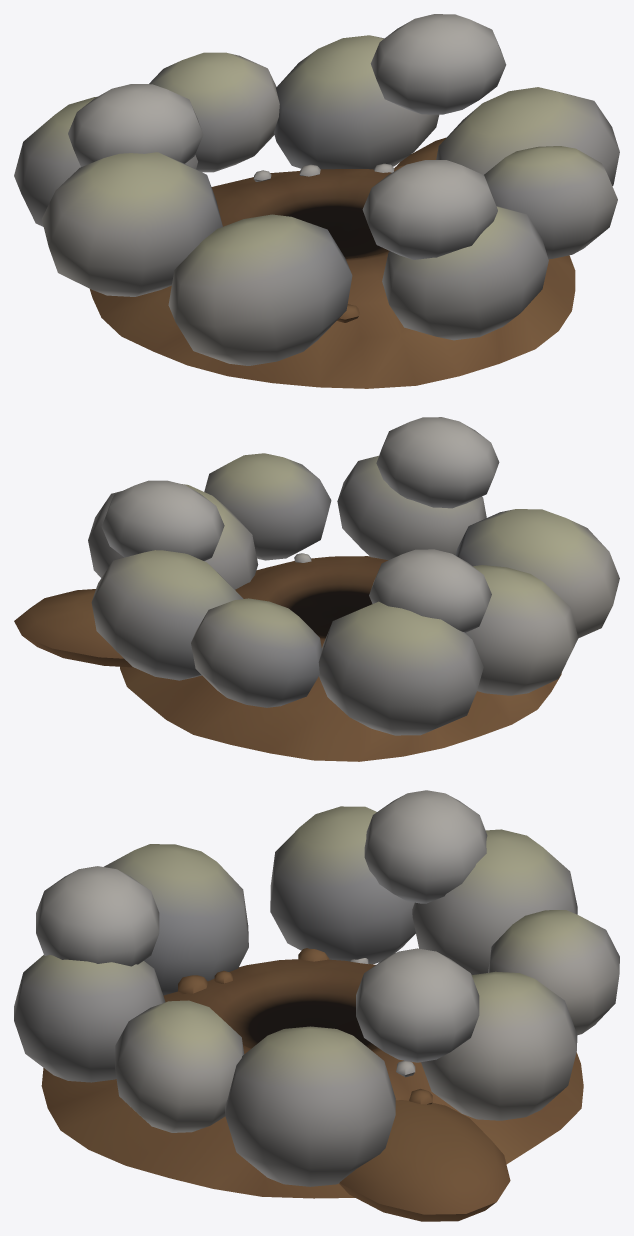
File: Okojo_Rocks.fbx
3 renders of one model, top to bottom at view 1: azimuth 30°, elevation 25°; view 2: azimuth 150°, elevation 25°; view 3: azimuth 270°, elevation 25°, orthographic. The views are drawn at different scales.
Visible parts, largest first — view 1: Okojo_Rocks; view 2: Okojo_Rocks; view 3: Okojo_Rocks.
Part boxes in pixels (x1,y1,x2,y2): Okojo_Rocks: (14, 14, 619, 388); Okojo_Rocks: (14, 417, 619, 761); Okojo_Rocks: (14, 790, 619, 1221).
Size of the model in its own units: 8.16 by 2.68 by 7.01.
